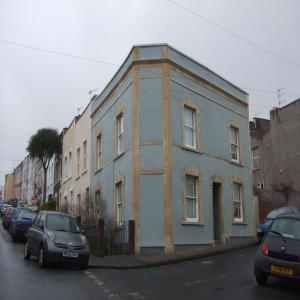Vehicle-registration-plate: (272, 265, 294, 275), (64, 252, 79, 259)
